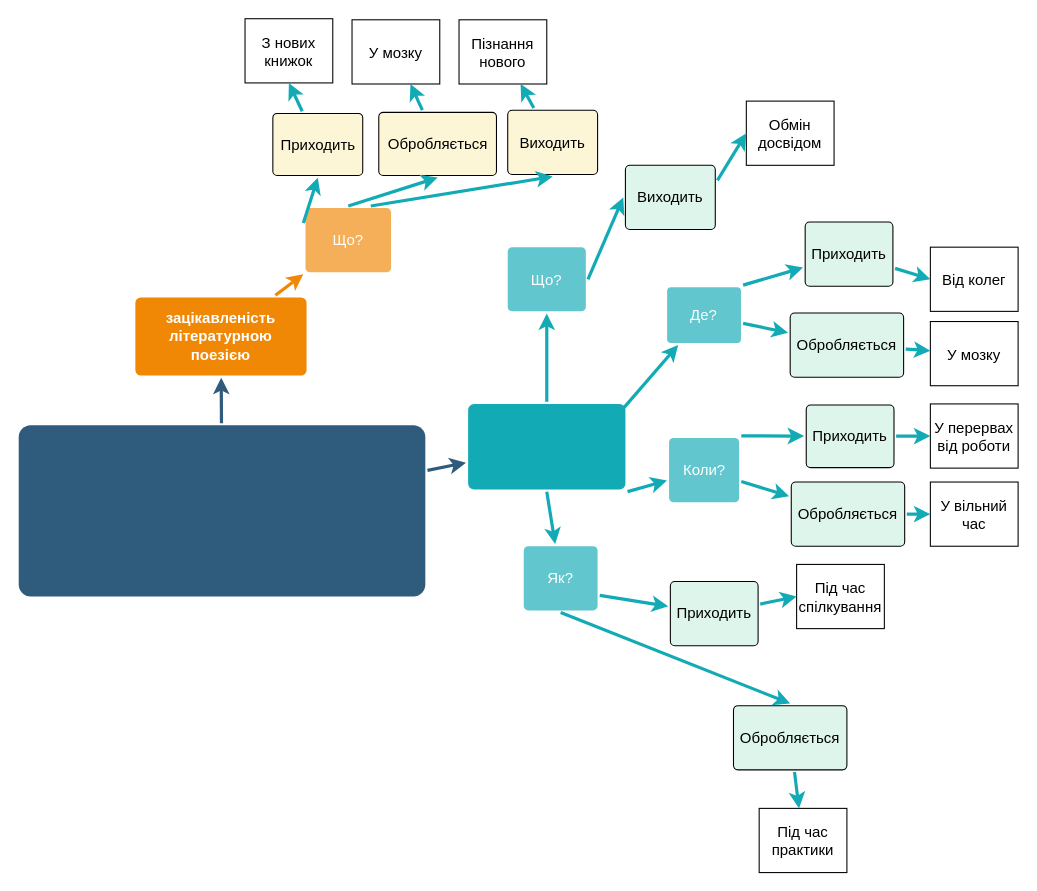
The diagram is 1037 pixels wide and 891 high, and some of its shapes have lost their labels. Each missing label, with the centre of its shape:
Потреби: point 221,510
професійне спілкування: point 546,446
